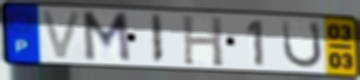1: (245, 19, 266, 68)
H: (180, 13, 226, 68)
I: (149, 13, 165, 66)
M: (80, 10, 134, 65)
U: (280, 19, 325, 71)
V: (38, 9, 86, 62)
